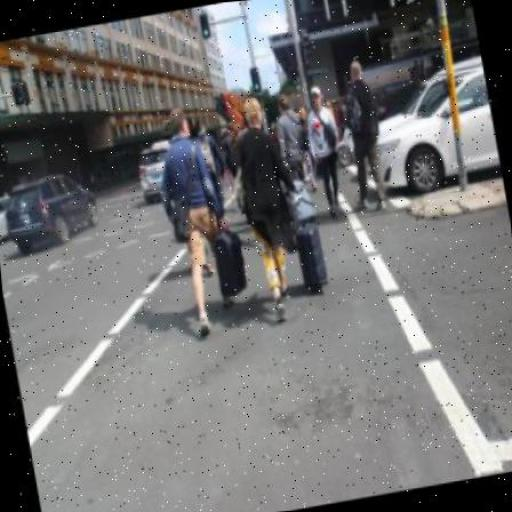person: (147, 103, 242, 339), (224, 90, 312, 327), (326, 56, 394, 215), (299, 83, 350, 215), (270, 92, 313, 188)
